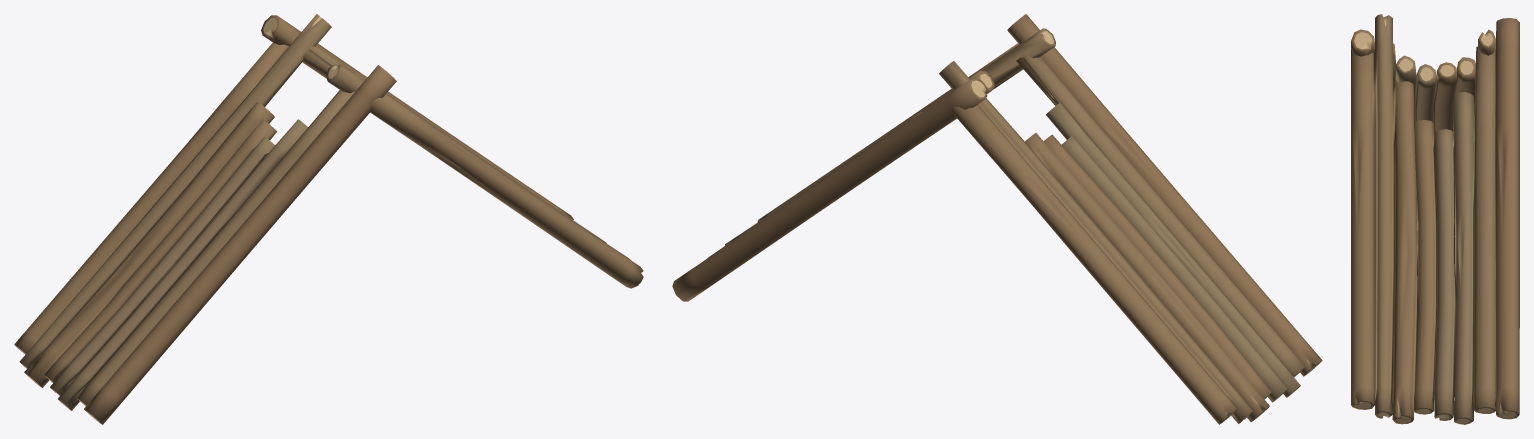
File: rpgpp_ag_roof_01_9x4x3_chimney_01.fbx
The picture shows the model from 3 angles, left to right: view 1: azimuth 30°, elevation 25°; view 2: azimuth 150°, elevation 25°; view 3: azimuth 270°, elevation 25°; orthographic projection. The views are drawn at different scales.
Parts seen in each view (by area): view 1: rpgpp_ag_roof_01_9x4x3_chimney_01; view 2: rpgpp_ag_roof_01_9x4x3_chimney_01; view 3: rpgpp_ag_roof_01_9x4x3_chimney_01.
Part boxes in pixels (box(x1,y1,x2,y2)): rpgpp_ag_roof_01_9x4x3_chimney_01: box(14, 14, 643, 424); rpgpp_ag_roof_01_9x4x3_chimney_01: box(672, 14, 1322, 424); rpgpp_ag_roof_01_9x4x3_chimney_01: box(1351, 14, 1519, 424).
Bounding box in the file's own units: 11.05 × 5.44 × 3.
